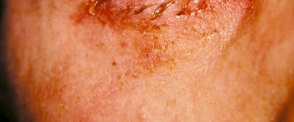SJS-TEN: (68, 0, 262, 87)
